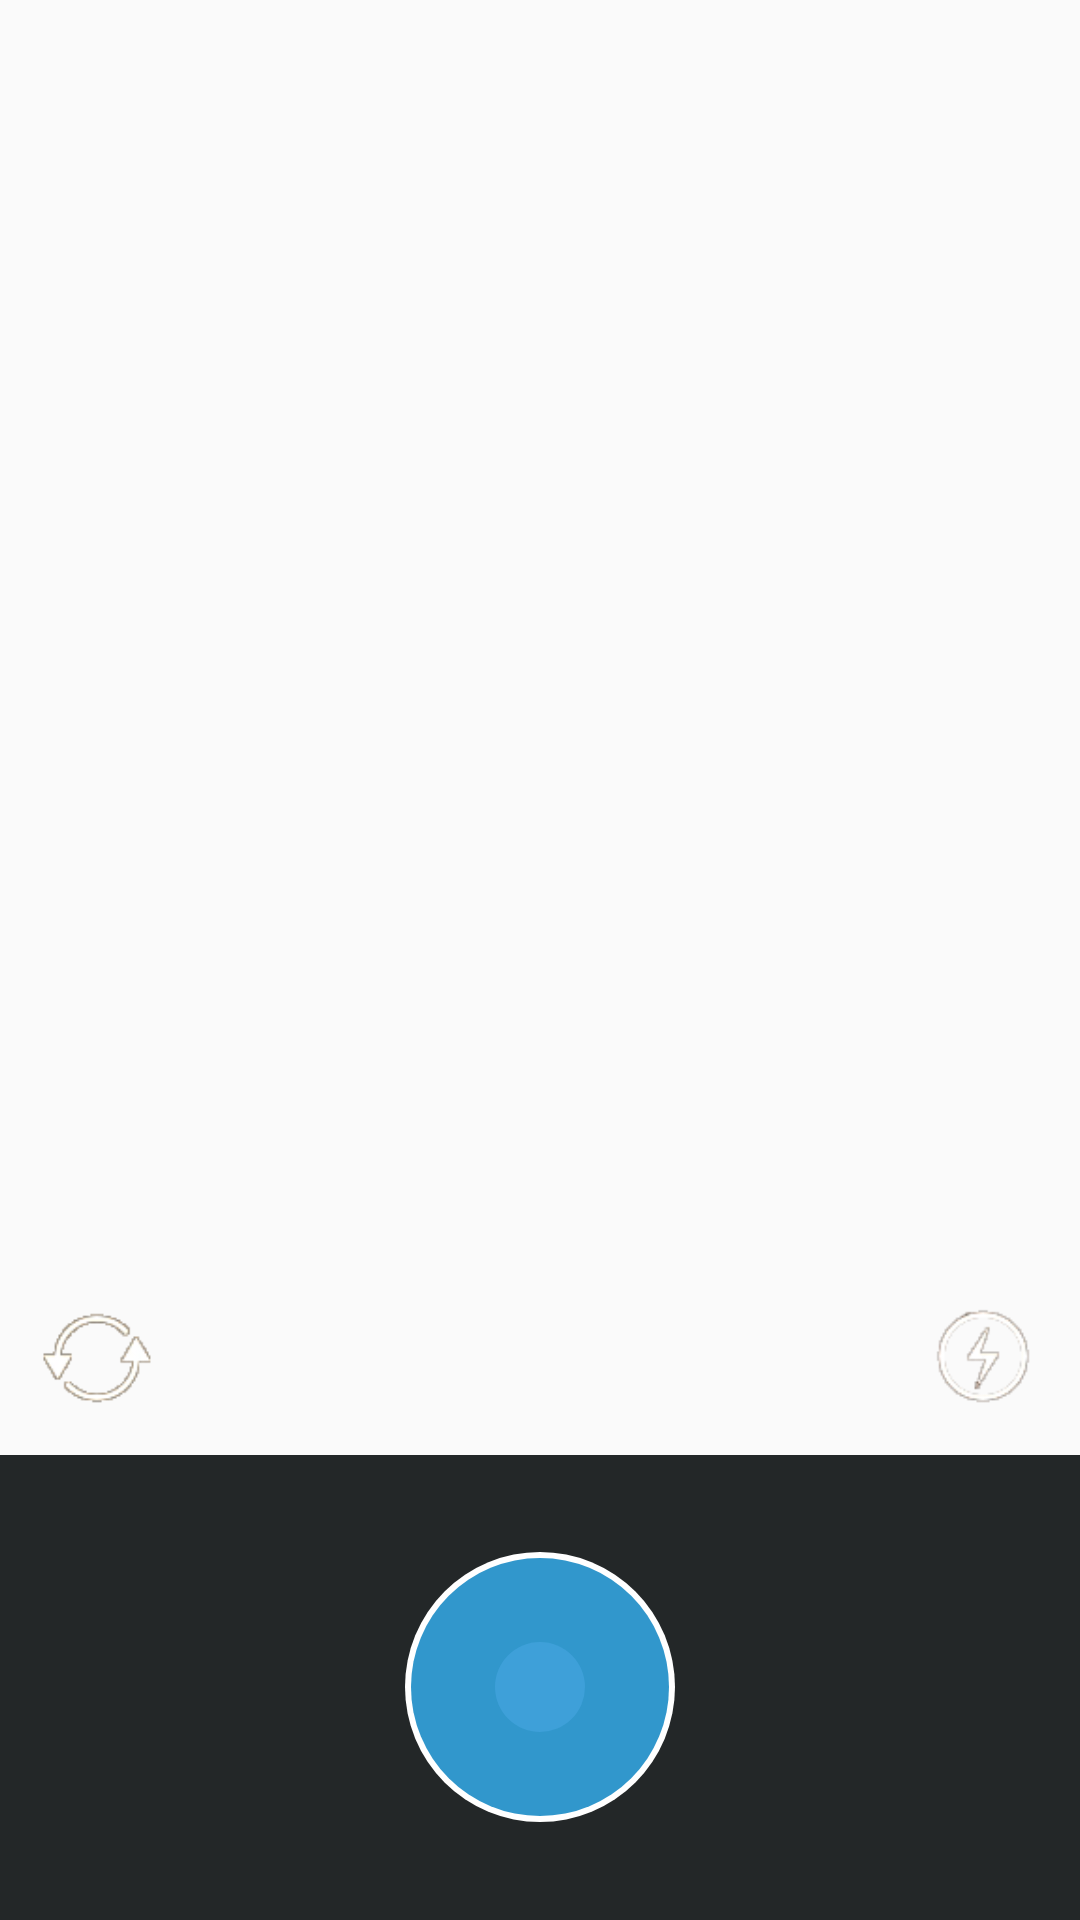

Where to tap for icons on this 1080*1920 app screen, as point (x, y):
change camera: point (97, 1358)
flash: point (983, 1356)
